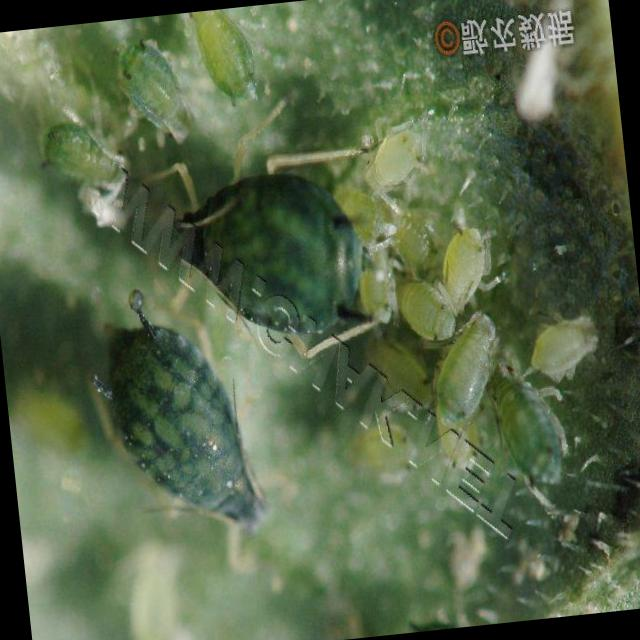aphid: (162, 78, 406, 351), (66, 302, 288, 590), (480, 348, 572, 504), (106, 24, 202, 160), (422, 302, 517, 435), (23, 106, 136, 204), (520, 301, 612, 388), (422, 216, 502, 312)
